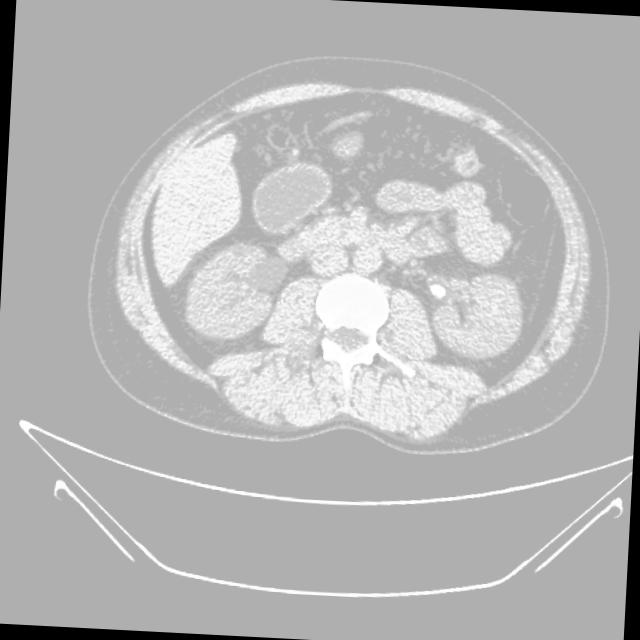STONE: (232, 112, 537, 268)
